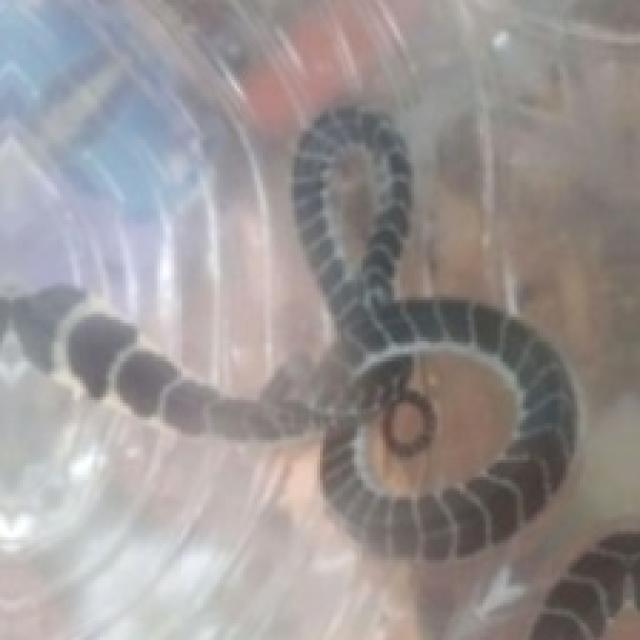king cobra: (0, 109, 594, 637)
